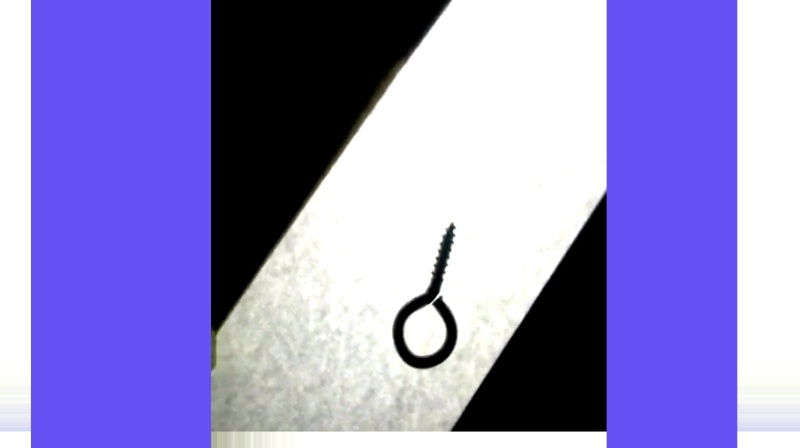O001: (389, 218, 459, 372)
